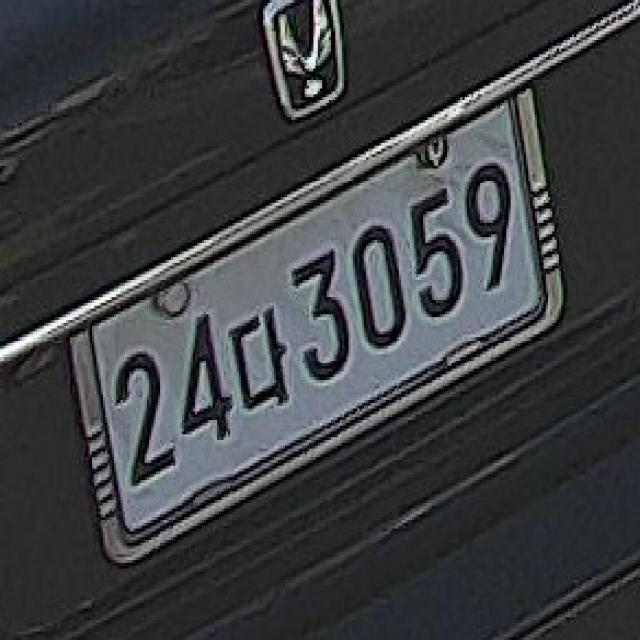0: (344, 207, 421, 375)
2: (104, 328, 189, 508)
3: (283, 229, 367, 410)
4: (162, 293, 246, 473)
5: (400, 169, 478, 344)
9: (455, 138, 533, 316)
da: (227, 298, 304, 441)
license_plate: (81, 96, 558, 544)
